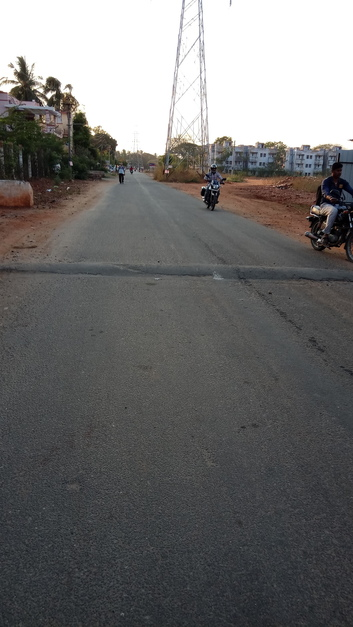bump: (1, 259, 353, 284)
